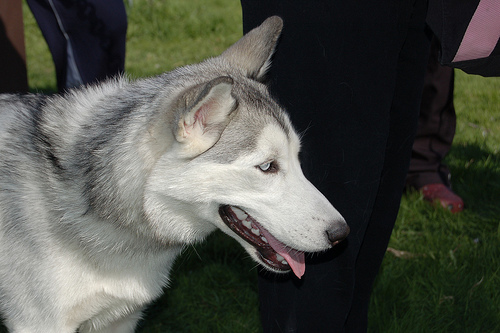dog: (0, 16, 348, 332)
